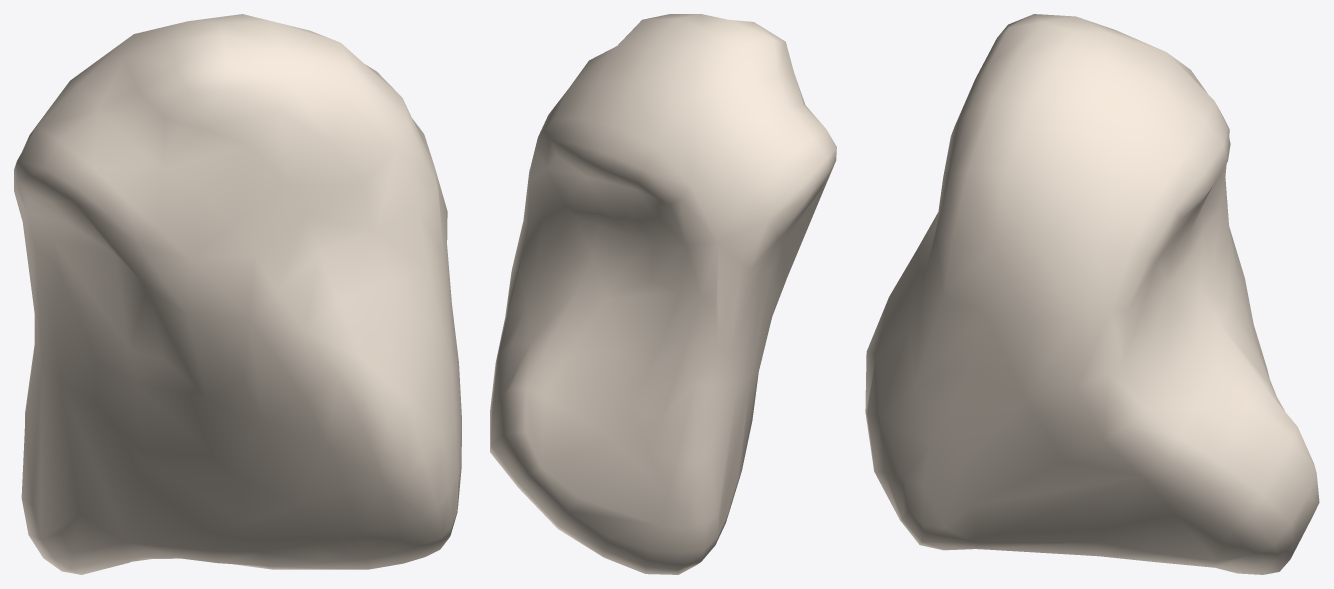
The model's file is left_capitate.glb.
3 views of the same model, side by side, from view 1: azimuth 30°, elevation 25°; view 2: azimuth 150°, elevation 25°; view 3: azimuth 270°, elevation 25° (orthographic). The views are drawn at different scales.
Visible parts, largest first — view 1: Capitate.r; view 2: Capitate.r; view 3: Capitate.r.
Boxes of the visible parts, box(x1,y1,x2,y2) form: Capitate.r: box(14, 14, 461, 574); Capitate.r: box(490, 14, 836, 574); Capitate.r: box(865, 14, 1319, 574).
Bounding box in the file's own units: 0.0163 × 0.0246 × 0.0184.
